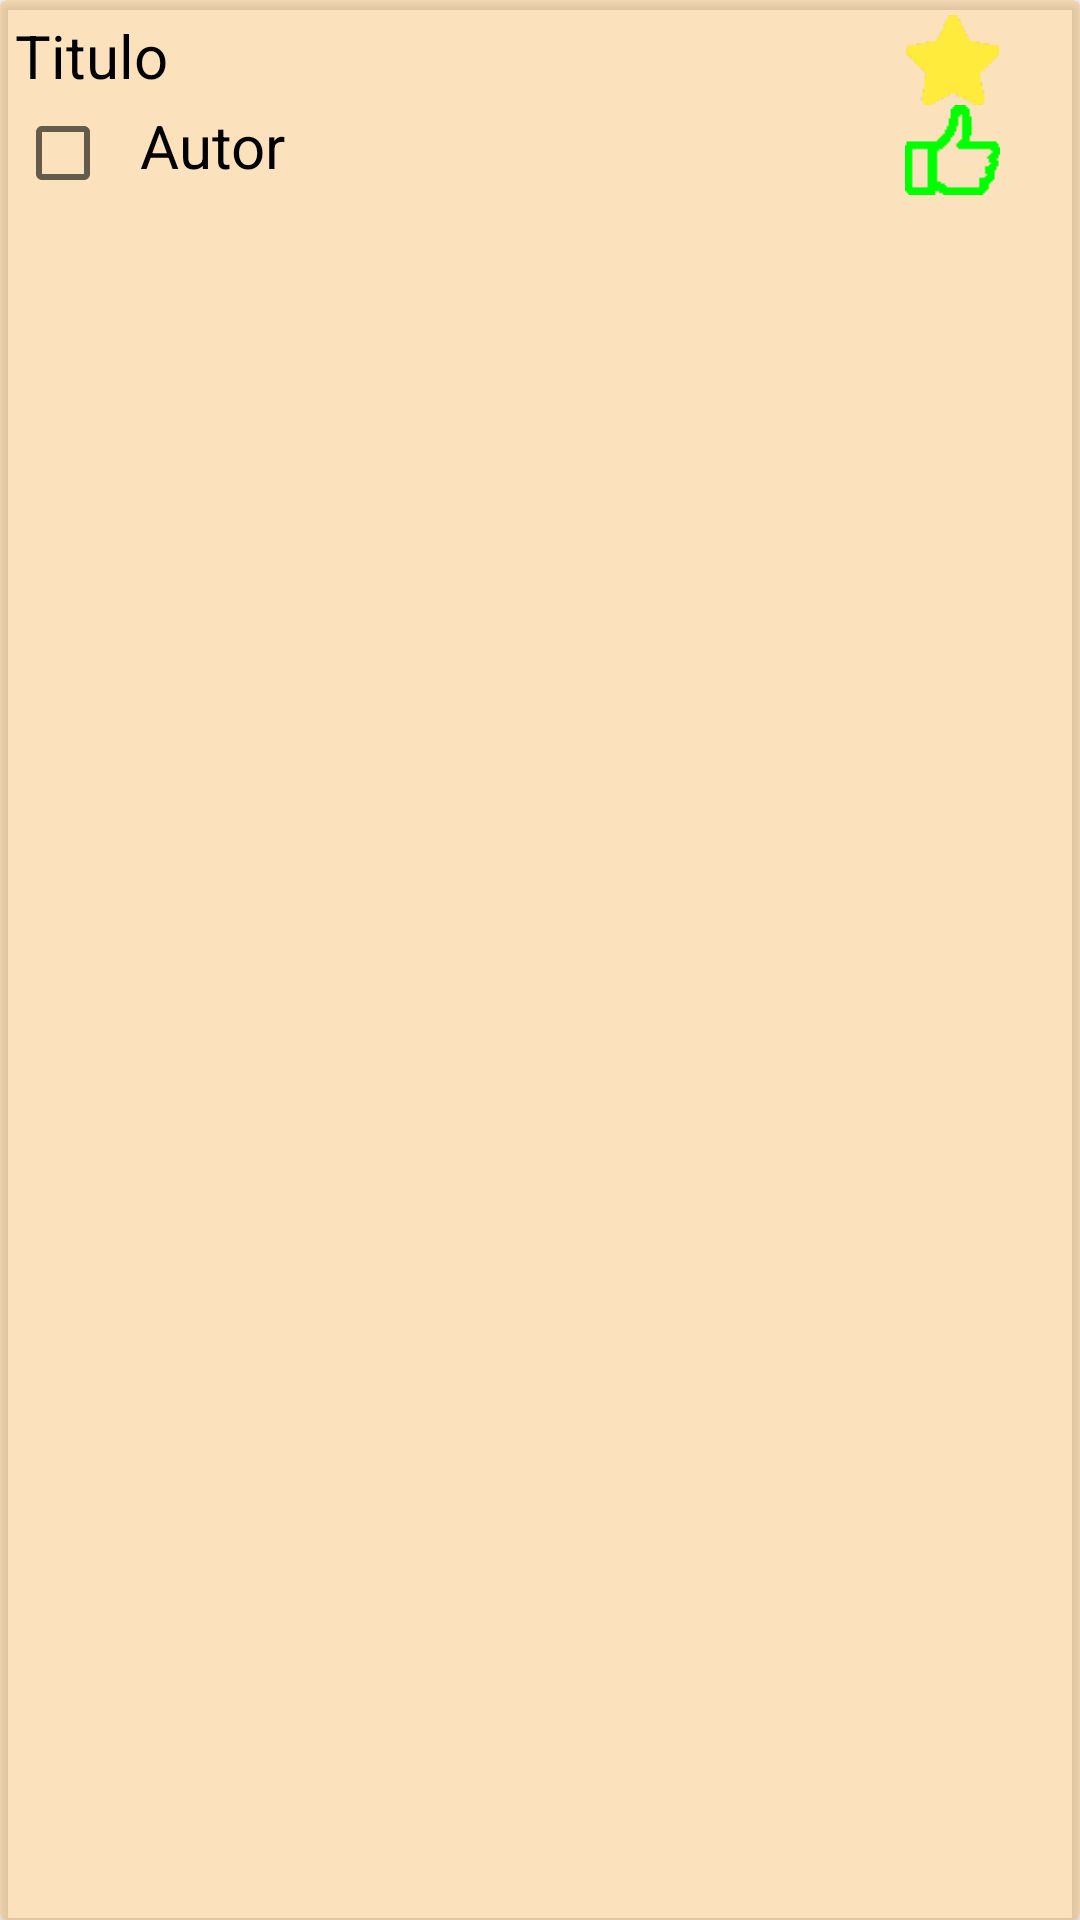

Icon click points for this 1080x1920 phone screenshot, format [x,y]:
estrella: [952,60]
like: [952,150]
